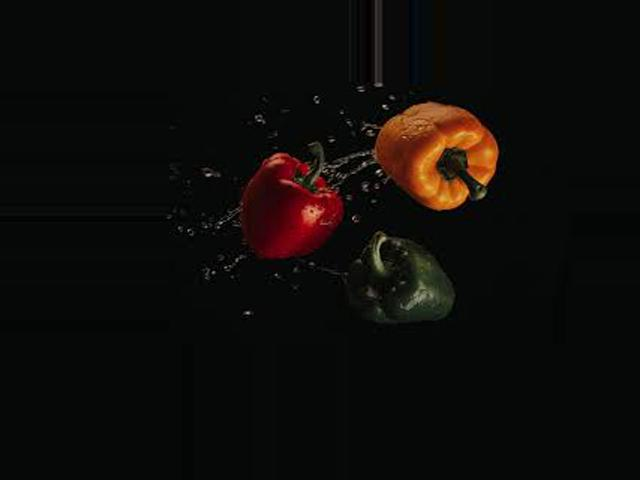bell_pepper: (235, 124, 361, 280)
